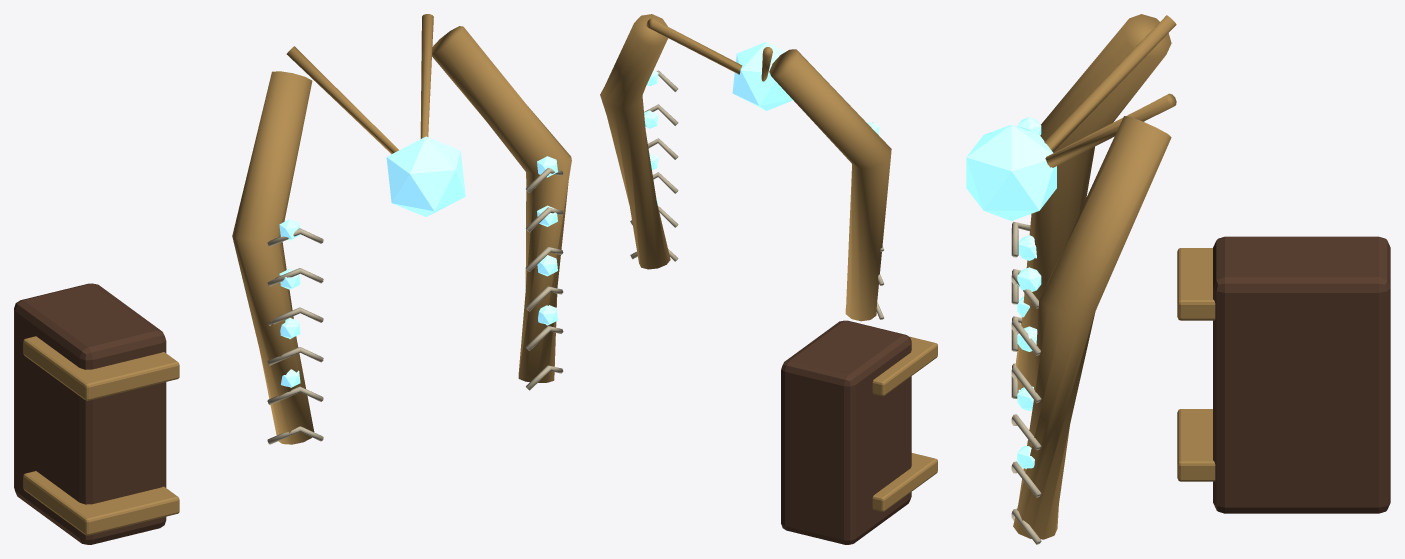
File: WizardDetails.glb
The picture shows the model from 3 angles, left to right: view 1: azimuth 30°, elevation 25°; view 2: azimuth 150°, elevation 25°; view 3: azimuth 270°, elevation 25°; orthographic projection. The views are drawn at different scales.
Visible parts, largest first — view 1: Model.002; view 2: Model.002; view 3: Model.002.
Part boxes in pixels (x1=…): Model.002: x1=14, y1=14, x2=571, y2=544; Model.002: x1=600, y1=14, x2=937, y2=544; Model.002: x1=966, y1=14, x2=1390, y2=544.
Size of the model in its own units: 0.5094 by 0.5246 by 0.3583.
